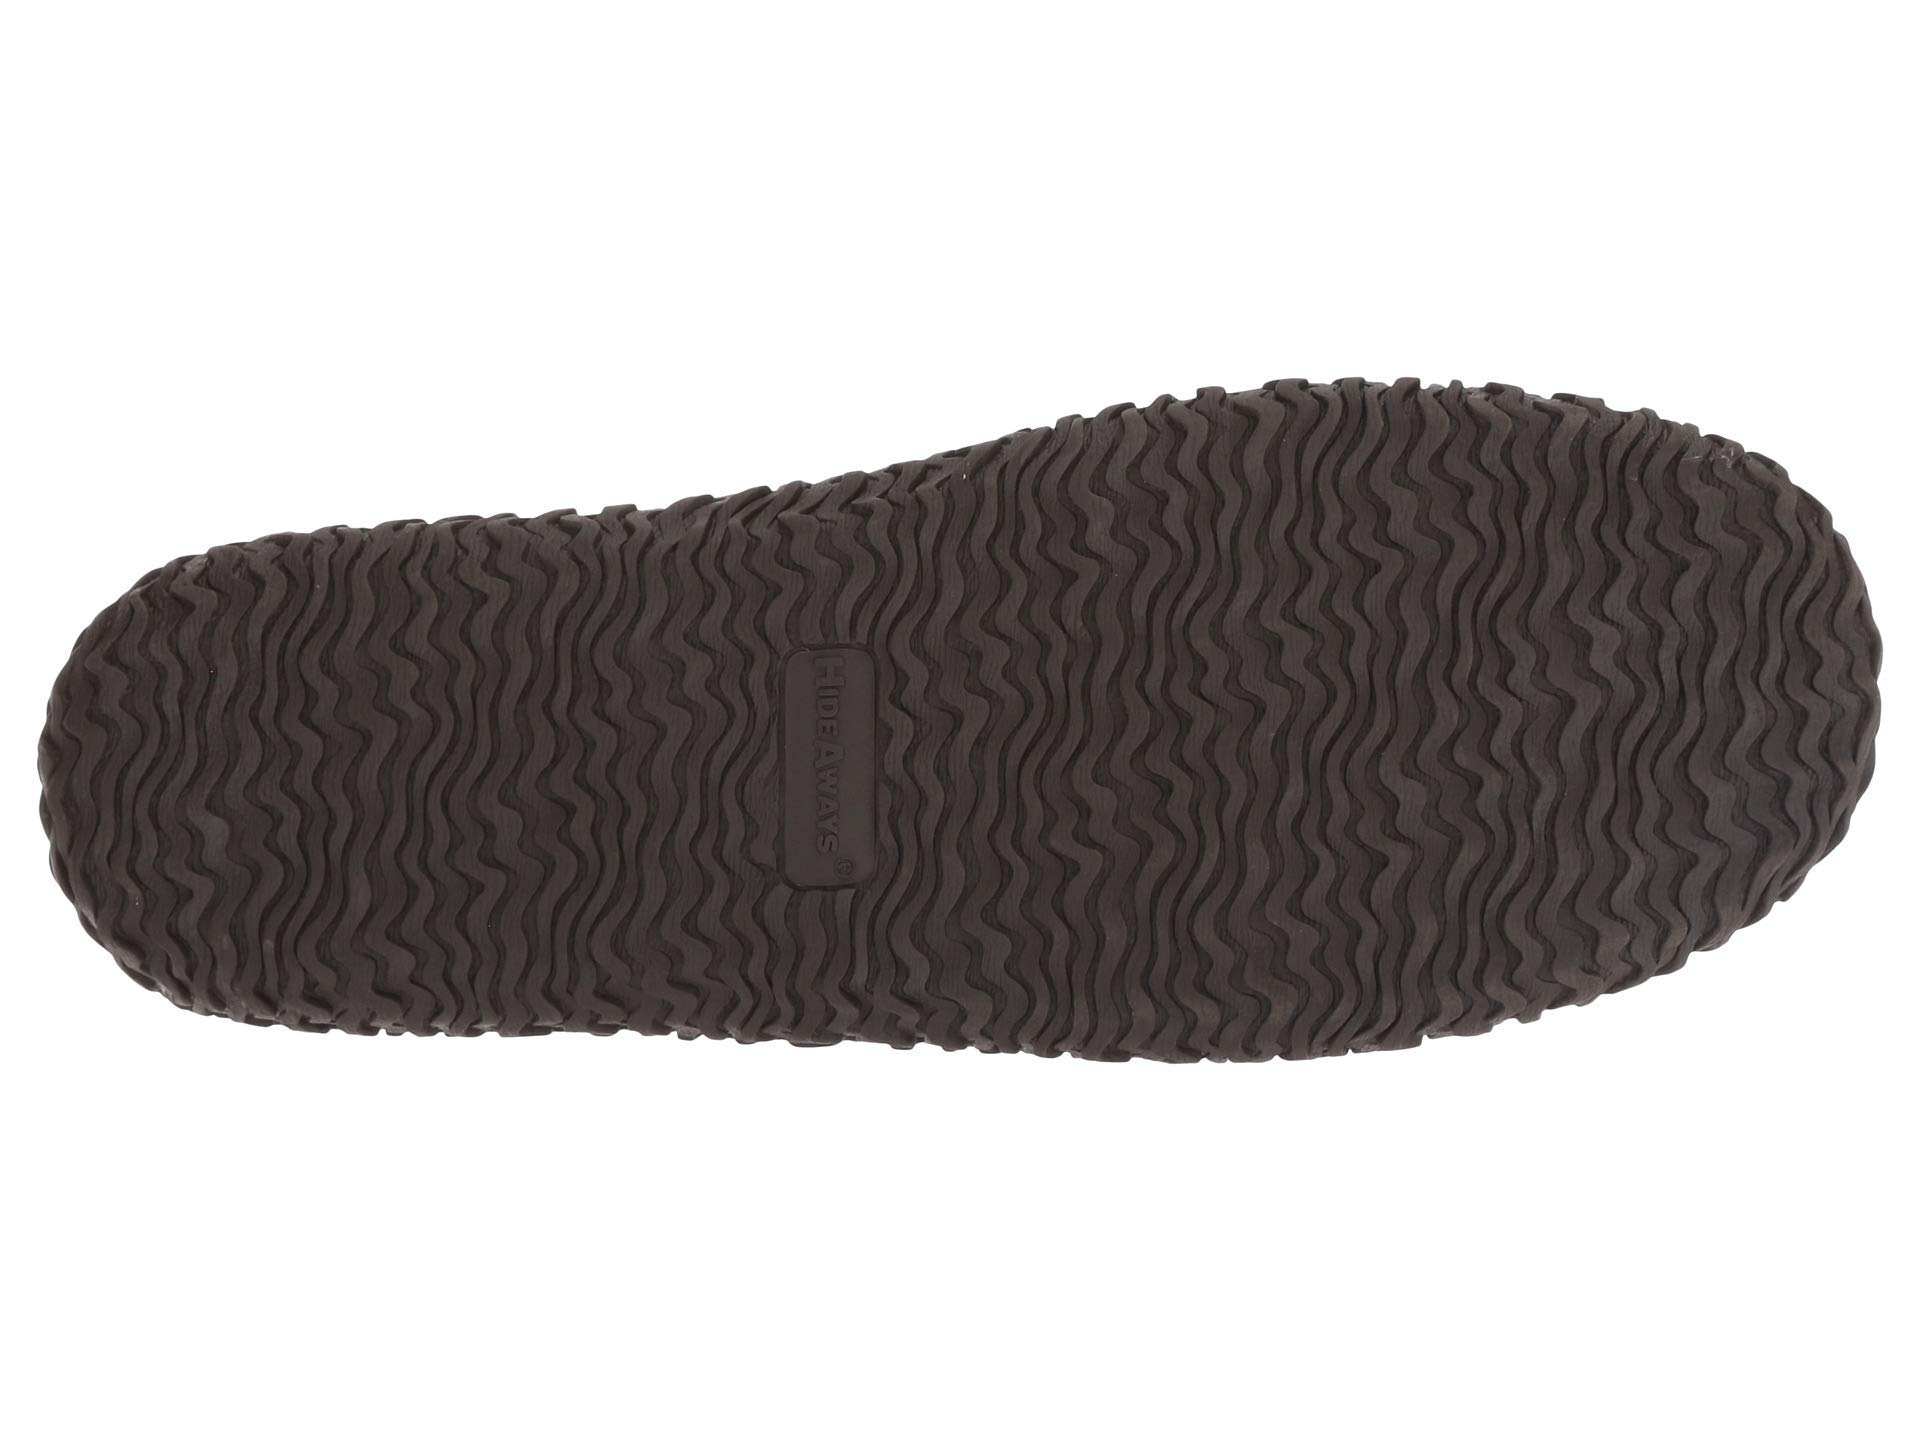chevron: (745, 617, 1042, 911)
line: (1144, 514, 1259, 616)
quad: (745, 617, 1042, 911)
text: (745, 617, 1042, 911)
